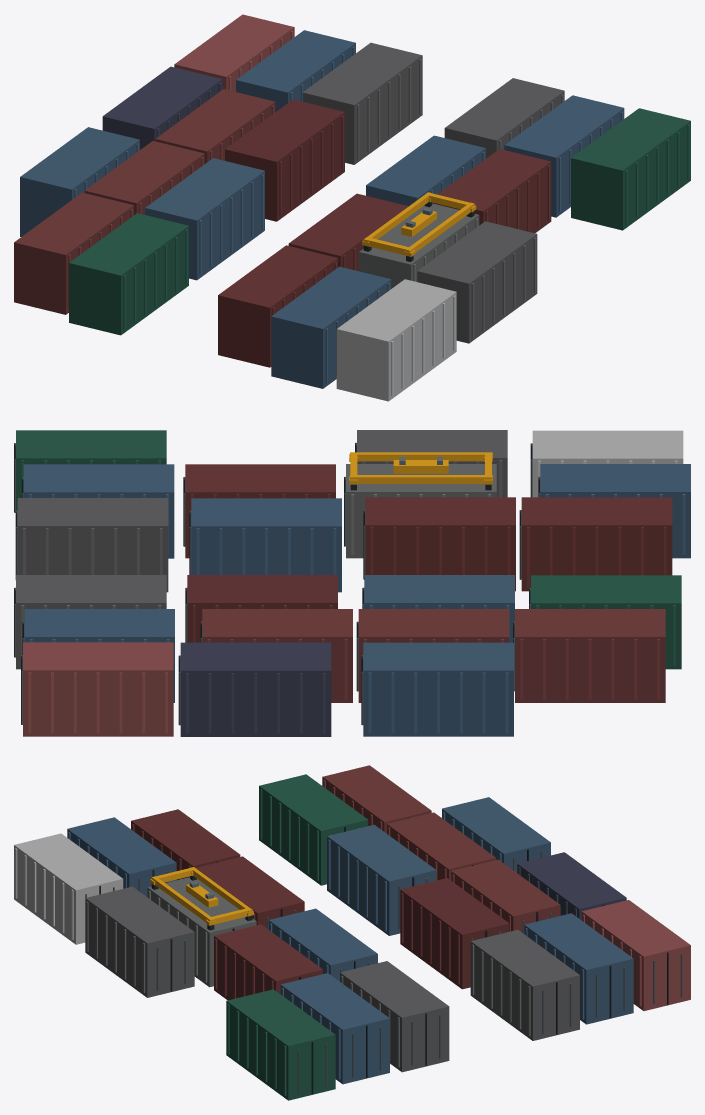
File: SeaportSystem-01-Container-01-20Footer-2-01.glb
3 views of the same model, one above another, from view 1: azimuth 30°, elevation 25°; view 2: azimuth 150°, elevation 25°; view 3: azimuth 270°, elevation 25° (orthographic). The views are drawn at different scales.
Parts seen in each view (by area): view 1: SeaportSystem-01-Container-01-20Footer-2-01; view 2: SeaportSystem-01-Container-01-20Footer-2-01; view 3: SeaportSystem-01-Container-01-20Footer-2-01.
Boxes of the visible parts, box(x1,y1,x2,y2) form: SeaportSystem-01-Container-01-20Footer-2-01: box(14, 14, 690, 401); SeaportSystem-01-Container-01-20Footer-2-01: box(14, 430, 690, 736); SeaportSystem-01-Container-01-20Footer-2-01: box(14, 765, 690, 1100).
Size of the model in its own units: 70.71 by 8.25 by 72.01.
